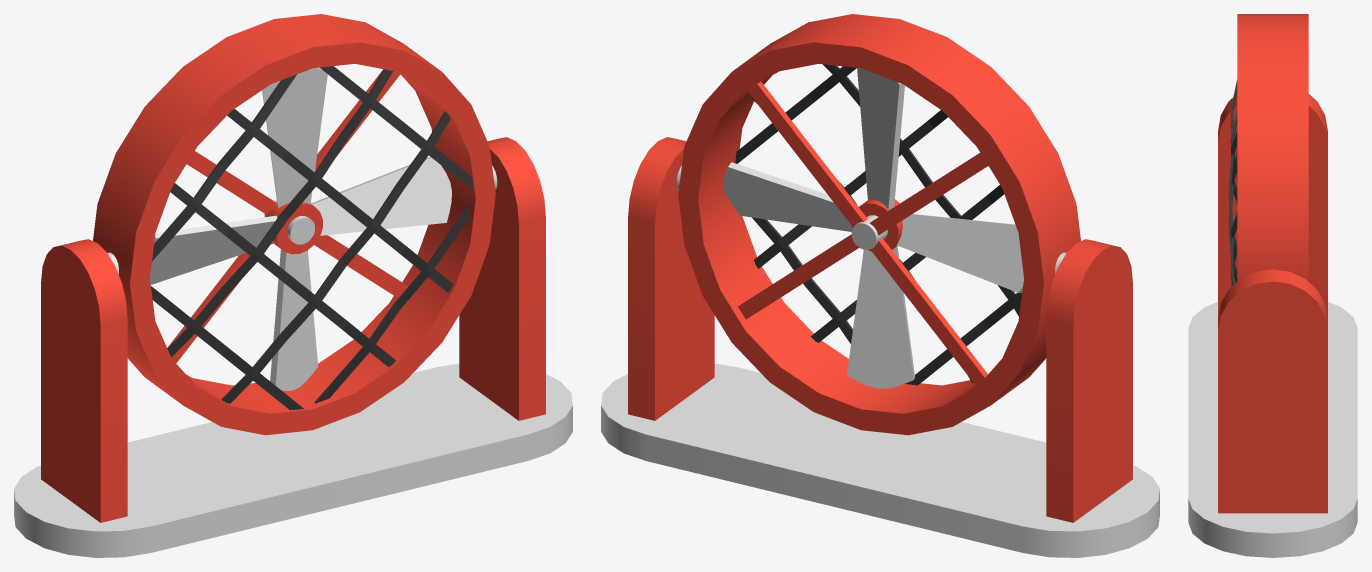
The model's file is Ventilator B.fbx.
The picture shows the model from 3 angles, left to right: view 1: azimuth 30°, elevation 25°; view 2: azimuth 150°, elevation 25°; view 3: azimuth 270°, elevation 25°; orthographic projection. The views are drawn at different scales.
Parts seen in each view (by area): view 1: Ventilator B Stand, Ventilator B, Ventilator B.001, Grid Ventilator B; view 2: Ventilator B Stand, Ventilator B, Ventilator B.001, Grid Ventilator B; view 3: Ventilator B Stand, Ventilator B, Grid Ventilator B.
Boxes of the visible parts, x1,y1,x2,y2 form: Ventilator B Stand: [14, 137, 572, 557]; Ventilator B: [93, 14, 497, 435]; Ventilator B.001: [150, 67, 451, 390]; Grid Ventilator B: [151, 66, 473, 410]; Ventilator B Stand: [601, 137, 1159, 557]; Ventilator B: [676, 14, 1080, 435]; Ventilator B.001: [723, 68, 1023, 388]; Grid Ventilator B: [735, 64, 1022, 385]; Ventilator B Stand: [1188, 94, 1357, 557]; Ventilator B: [1237, 14, 1308, 281]; Grid Ventilator B: [1228, 79, 1237, 286].
Size of the model in its own units: 259 by 203 by 76.93.
